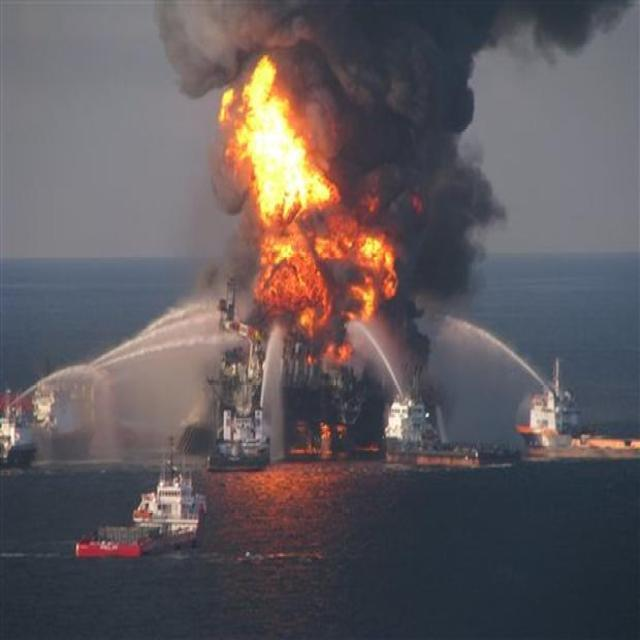Fire: (208, 44, 338, 220)
Smoke: (154, 0, 640, 391)
